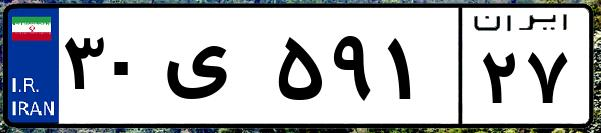0: (110, 28, 158, 98)
1: (385, 28, 445, 110)
2: (475, 38, 525, 113)
3: (57, 26, 110, 100)
5: (270, 28, 330, 110)
7: (525, 38, 570, 115)
9: (330, 28, 385, 110)
ی: (158, 20, 270, 120)
